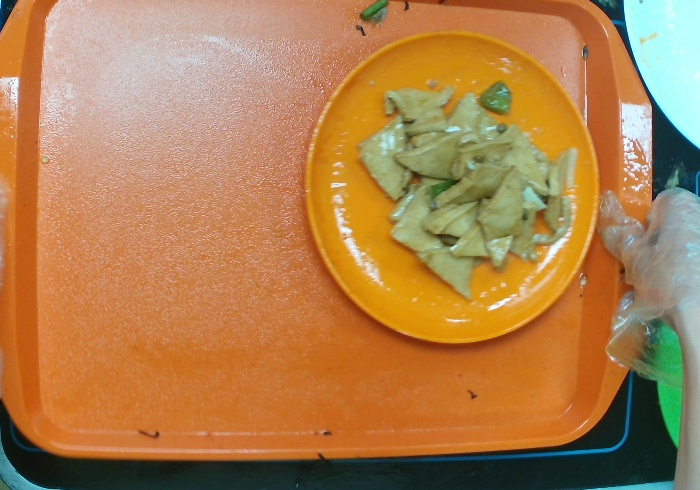HZYJPL-Ju_Huang_Yuan_Pan: (302, 29, 602, 345)
